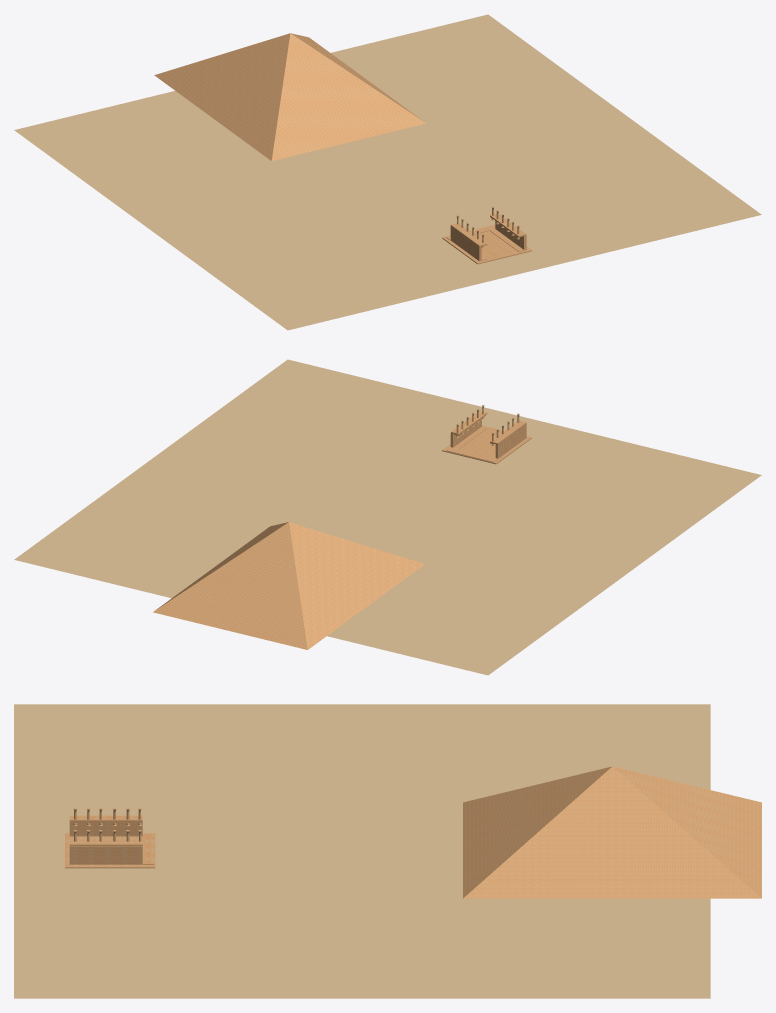
Rendered from WhiteboxAssets.fbx.
3 views of the same model, one above another, from view 1: azimuth 30°, elevation 25°; view 2: azimuth 150°, elevation 25°; view 3: azimuth 270°, elevation 25° (orthographic). The views are drawn at different scales.
Parts seen in each view (by area): view 1: Plane001, Pyramid001, Floor; view 2: Plane001, Pyramid001, Floor; view 3: Plane001, Pyramid001, Wall001, Wall, Floor, Foundation002.
Boxes of the visible parts, box(x1,y1,x2,y2) form: Plane001: box(14, 14, 761, 330); Pyramid001: box(154, 33, 426, 160); Floor: box(442, 225, 532, 264); Plane001: box(14, 359, 761, 675); Pyramid001: box(153, 522, 424, 649); Floor: box(442, 425, 531, 464); Plane001: box(14, 704, 710, 998); Pyramid001: box(463, 766, 761, 898); Wall001: box(69, 846, 142, 864); Wall: box(69, 822, 142, 836); Floor: box(65, 833, 155, 868); Foundation002: box(69, 840, 142, 846).
Size of the model in its own units: 30000 by 4063 by 32209.
Materials: 2 (2 with a texture image).
